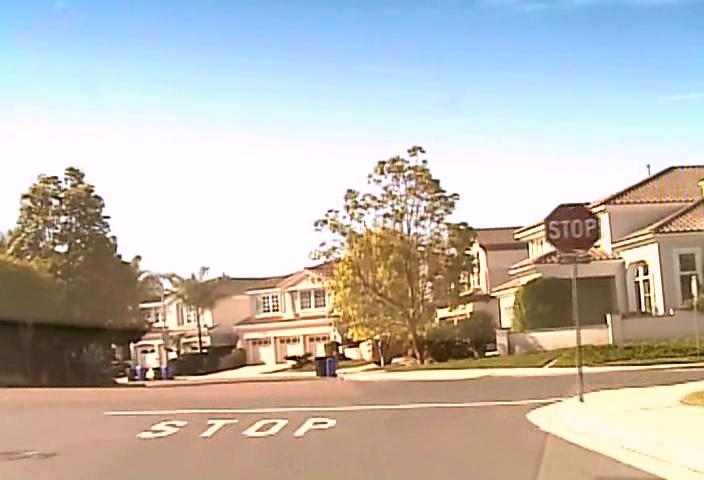stop: (544, 202, 601, 253)
